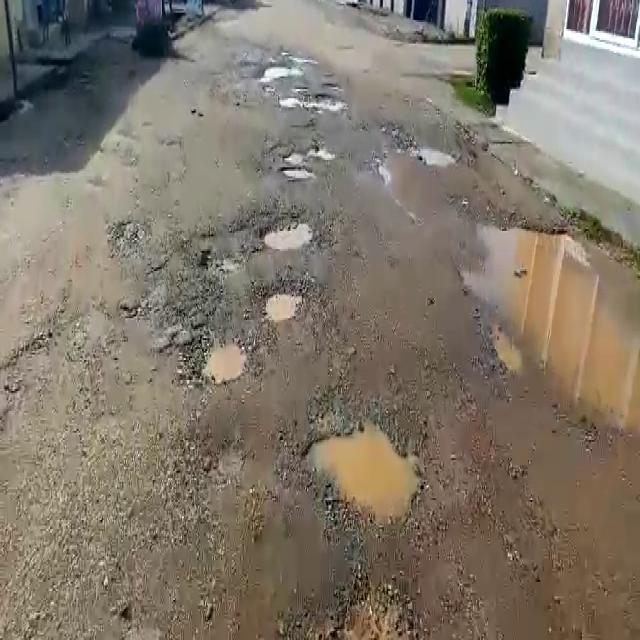pothole: (461, 233, 640, 439), (297, 416, 424, 528), (256, 214, 317, 257), (193, 338, 248, 381), (259, 283, 306, 326), (287, 94, 346, 114), (416, 143, 455, 166), (259, 62, 296, 79)
